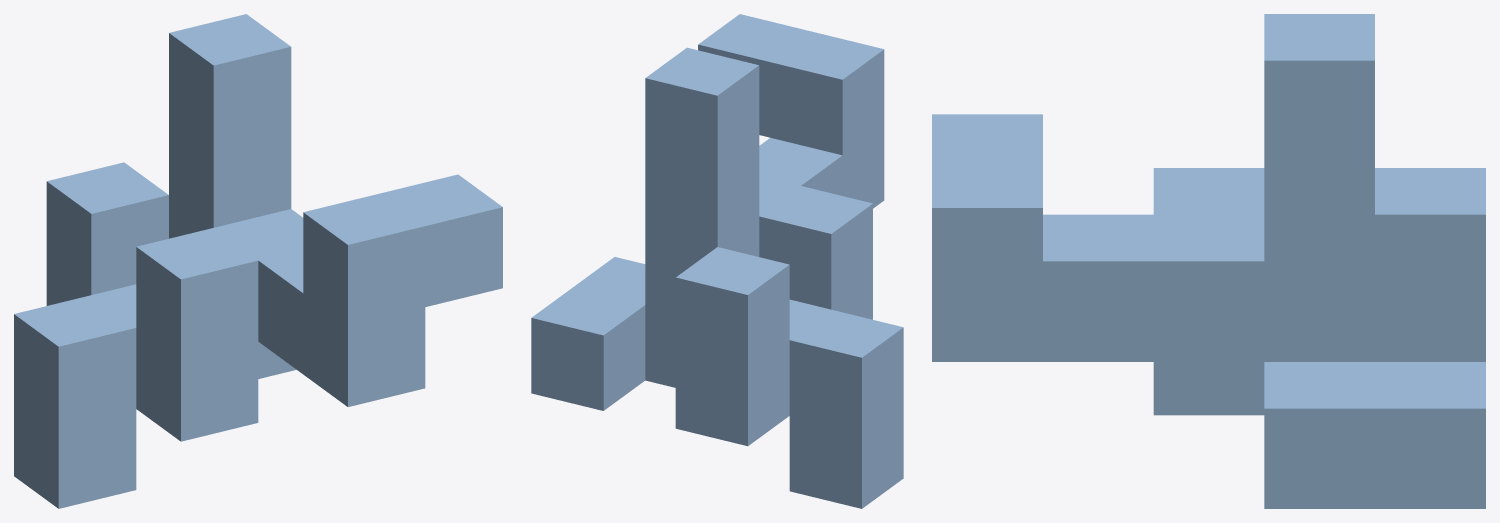
3 renders of one model, left to right at view 1: azimuth 30°, elevation 25°; view 2: azimuth 150°, elevation 25°; view 3: azimuth 270°, elevation 25°, orthographic. The views are drawn at different scales.
Parts seen in each view (by area): view 1: _changes (2).013; view 2: _changes (2).013; view 3: _changes (2).013.
Boxes of the visible parts, x1=… form: _changes (2).013: x1=14, y1=14, x2=502, y2=508; _changes (2).013: x1=531, y1=14, x2=903, y2=508; _changes (2).013: x1=932, y1=14, x2=1485, y2=508.
Bounding box in the file's own units: 0.1599 × 0.1999 × 0.1999.
